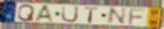A: (33, 4, 56, 24)
F: (128, 8, 148, 26)
N: (106, 7, 128, 25)
Q: (17, 4, 35, 22)
T: (84, 7, 100, 24)
U: (60, 5, 80, 24)
